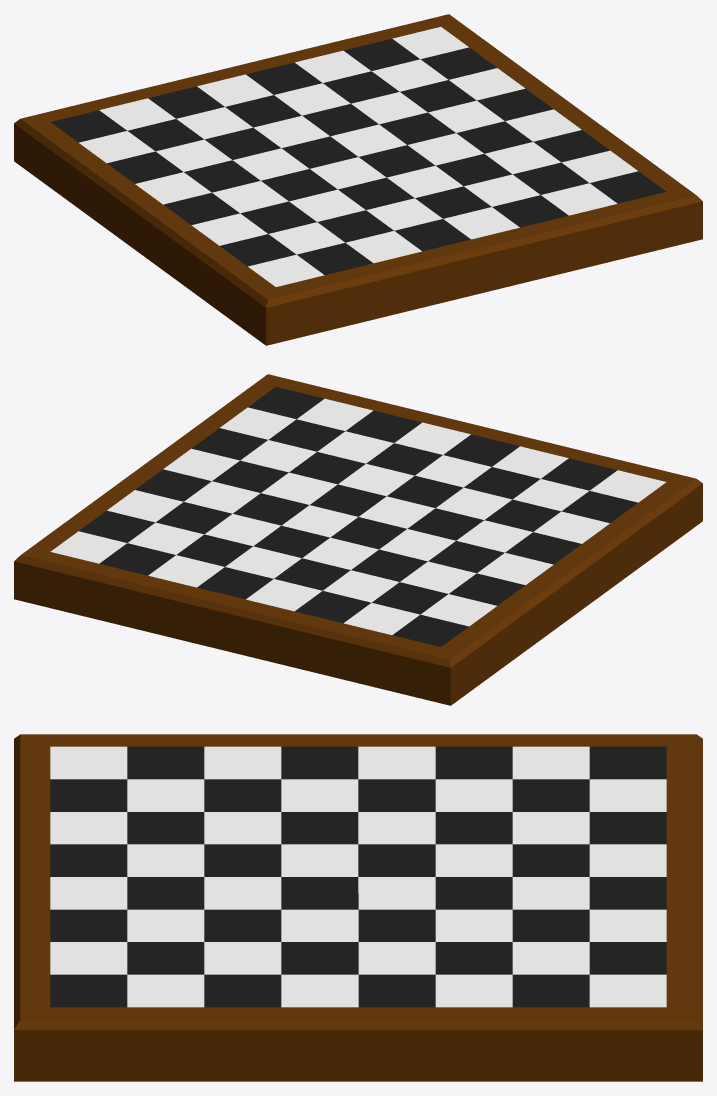
Rendered from Boardgame_Chess_Checkers_Board_01.fbx.
3 renders of one model, top to bottom at view 1: azimuth 30°, elevation 25°; view 2: azimuth 150°, elevation 25°; view 3: azimuth 270°, elevation 25°, orthographic. The views are drawn at different scales.
Visible parts, largest first — view 1: Boardgame_Chess_Checkers_Board_01; view 2: Boardgame_Chess_Checkers_Board_01; view 3: Boardgame_Chess_Checkers_Board_01.
Part boxes in pixels (left/top/right/bottom): Boardgame_Chess_Checkers_Board_01: left=14, top=14, right=702, bottom=345; Boardgame_Chess_Checkers_Board_01: left=14, top=374, right=702, bottom=705; Boardgame_Chess_Checkers_Board_01: left=14, top=734, right=702, bottom=1081.
Size of the model in its own units: 17886 by 1695 by 17886.
